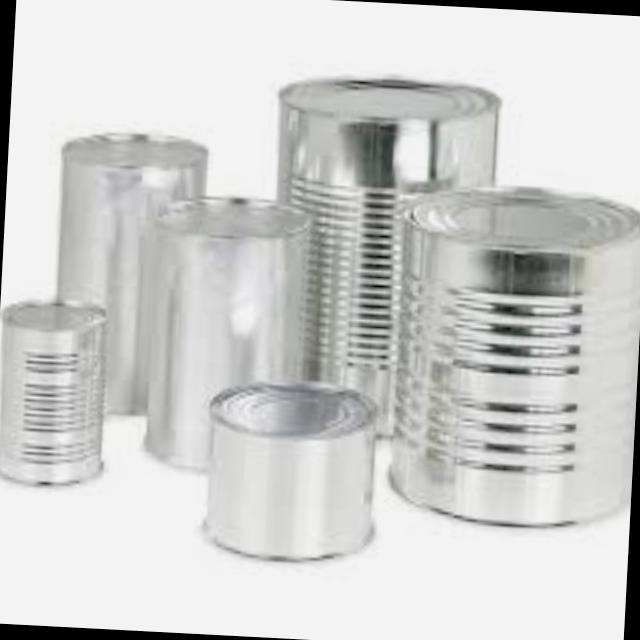Metal: (382, 174, 640, 535), (260, 66, 501, 434), (137, 192, 315, 482), (46, 130, 210, 420), (199, 374, 383, 571), (0, 294, 117, 490), (628, 186, 640, 535)
